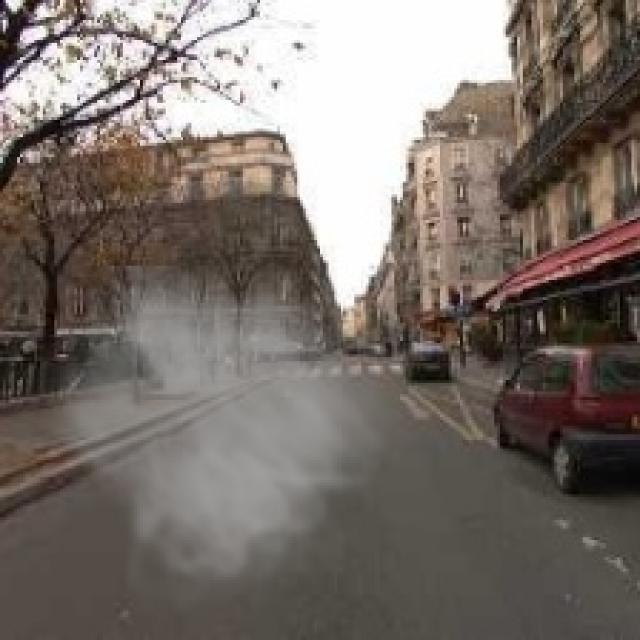Smoke: (34, 266, 400, 620)
